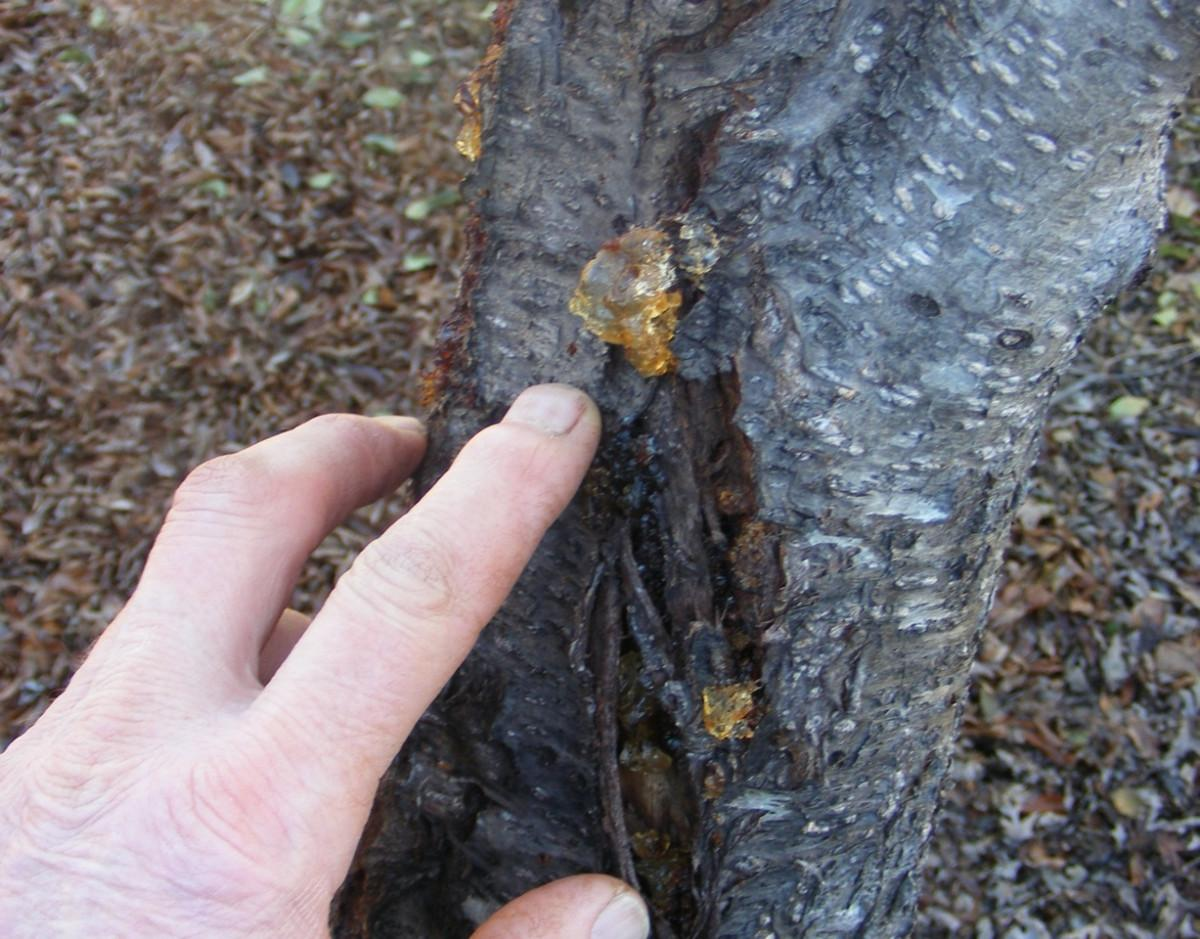gommosis: (568, 228, 681, 376), (455, 48, 494, 161), (703, 682, 757, 739)
